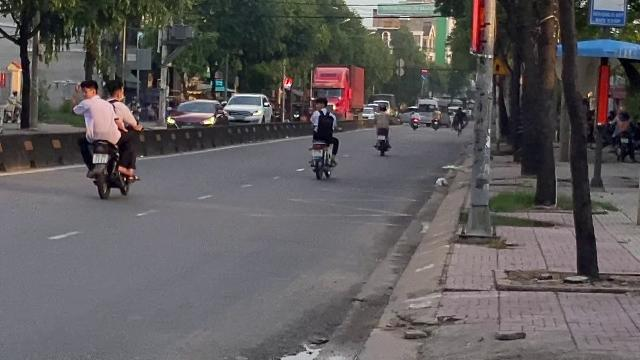licenseplate: (92, 154, 108, 162)
motorcyclist: (75, 77, 142, 200)
nohelmet: (104, 78, 126, 102), (78, 78, 100, 100)
